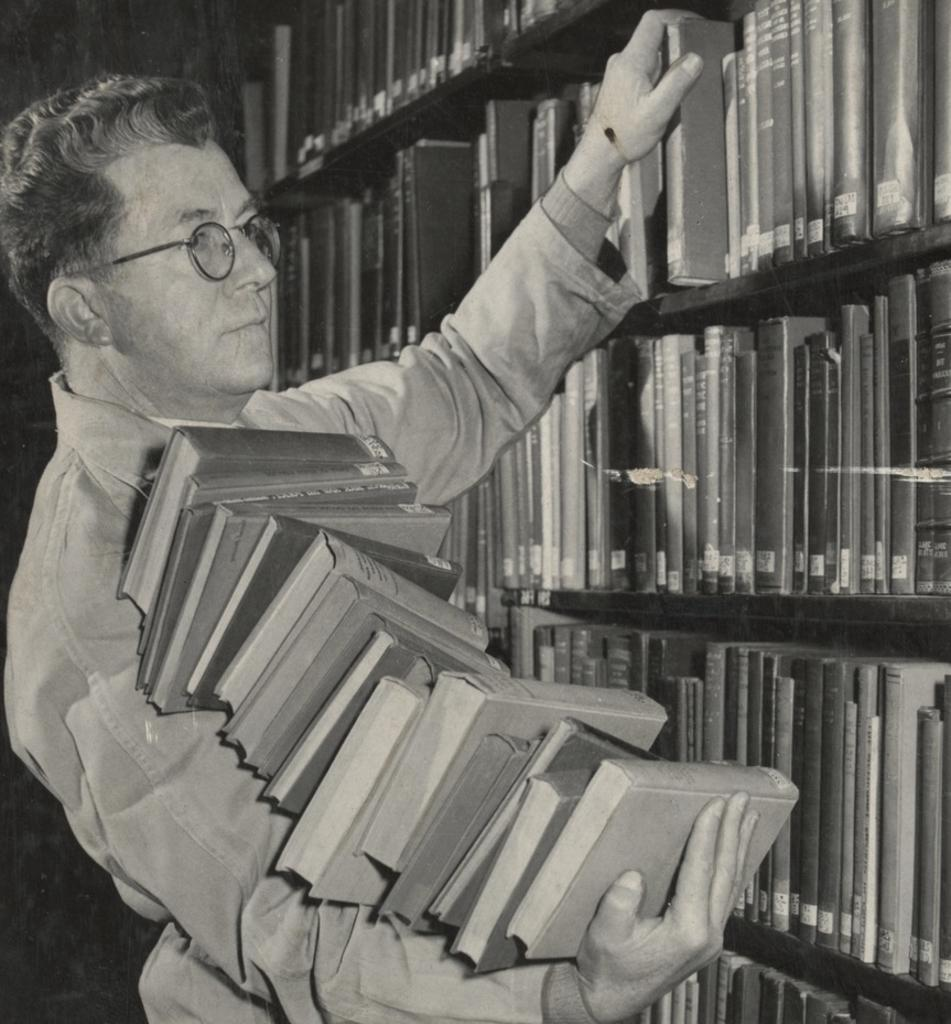Luggage-and-bags: (114, 424, 800, 978)
